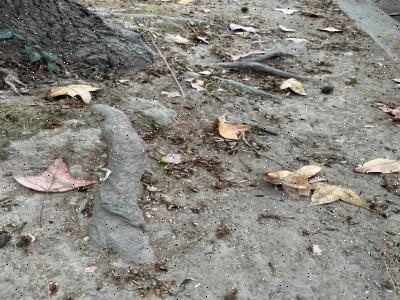Root: (88, 104, 154, 262), (209, 51, 337, 81), (216, 79, 284, 101)
